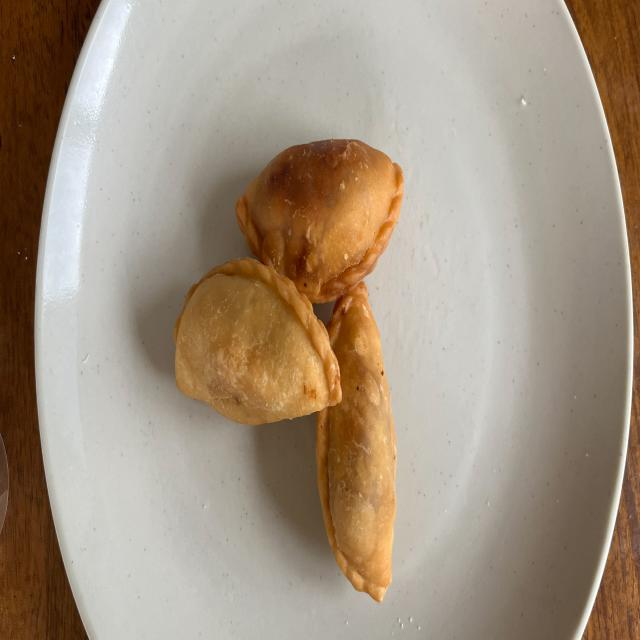karipap: (174, 258, 341, 424), (236, 140, 404, 302), (318, 282, 396, 602)
